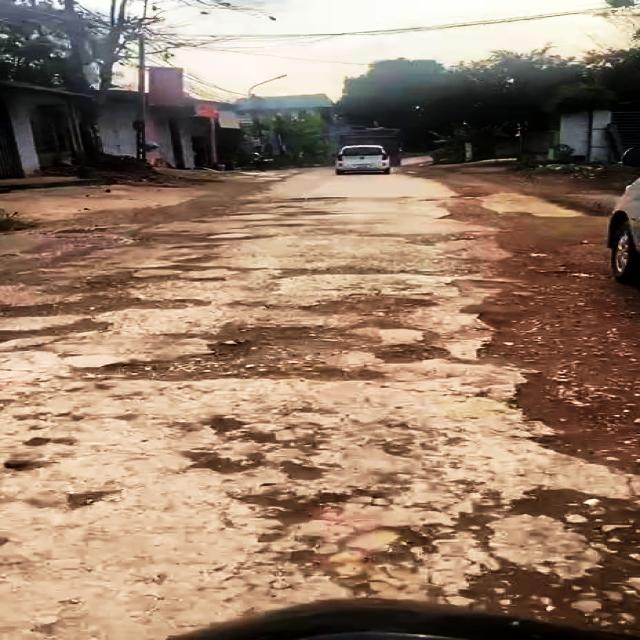pothole: (458, 482, 640, 640), (234, 479, 446, 595), (73, 323, 457, 385), (488, 368, 640, 476), (181, 415, 338, 483), (466, 306, 564, 368), (0, 292, 211, 319), (0, 315, 121, 354), (294, 293, 449, 318), (113, 262, 240, 286), (444, 275, 516, 299)
